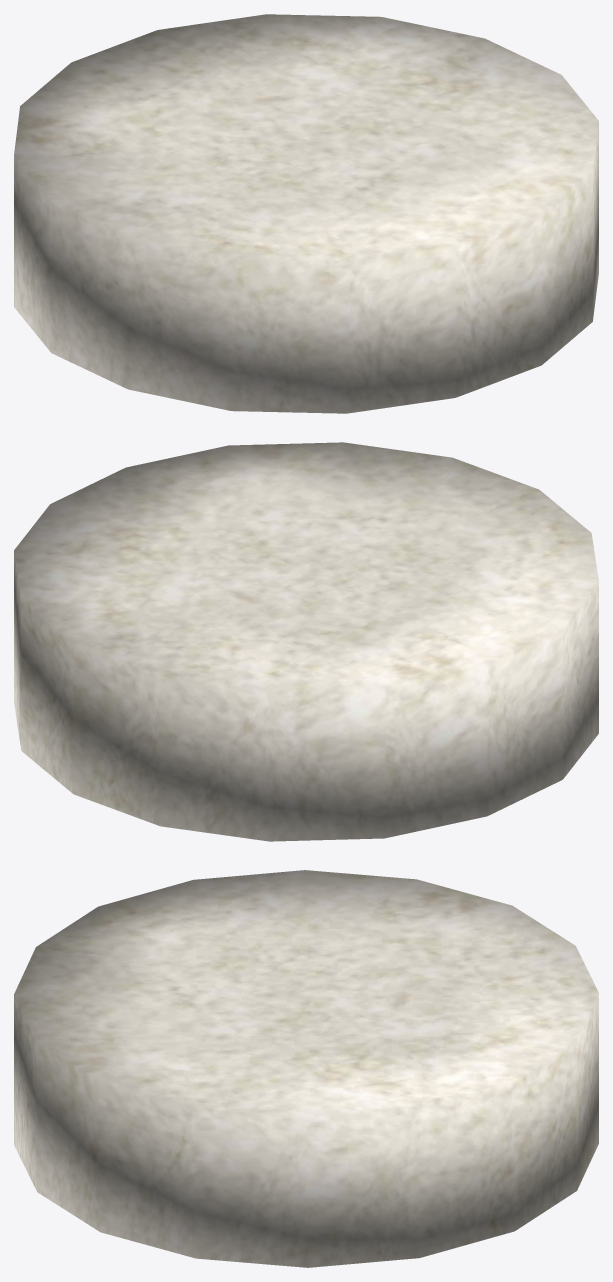
File: queso-panela.glb
3 views of the same model, one above another, from view 1: azimuth 30°, elevation 25°; view 2: azimuth 150°, elevation 25°; view 3: azimuth 270°, elevation 25° (orthographic).
Visible parts, largest first — view 1: queso-panela; view 2: queso-panela; view 3: queso-panela.
Part boxes in pixels (left/top/right/bottom): queso-panela: left=14, top=14, right=598, bottom=413; queso-panela: left=14, top=442, right=598, bottom=841; queso-panela: left=14, top=870, right=598, bottom=1267.
Bounding box in the file's own units: 0.2069 × 0.0588 × 0.2069.
Materials: 1 (1 with a texture image).
